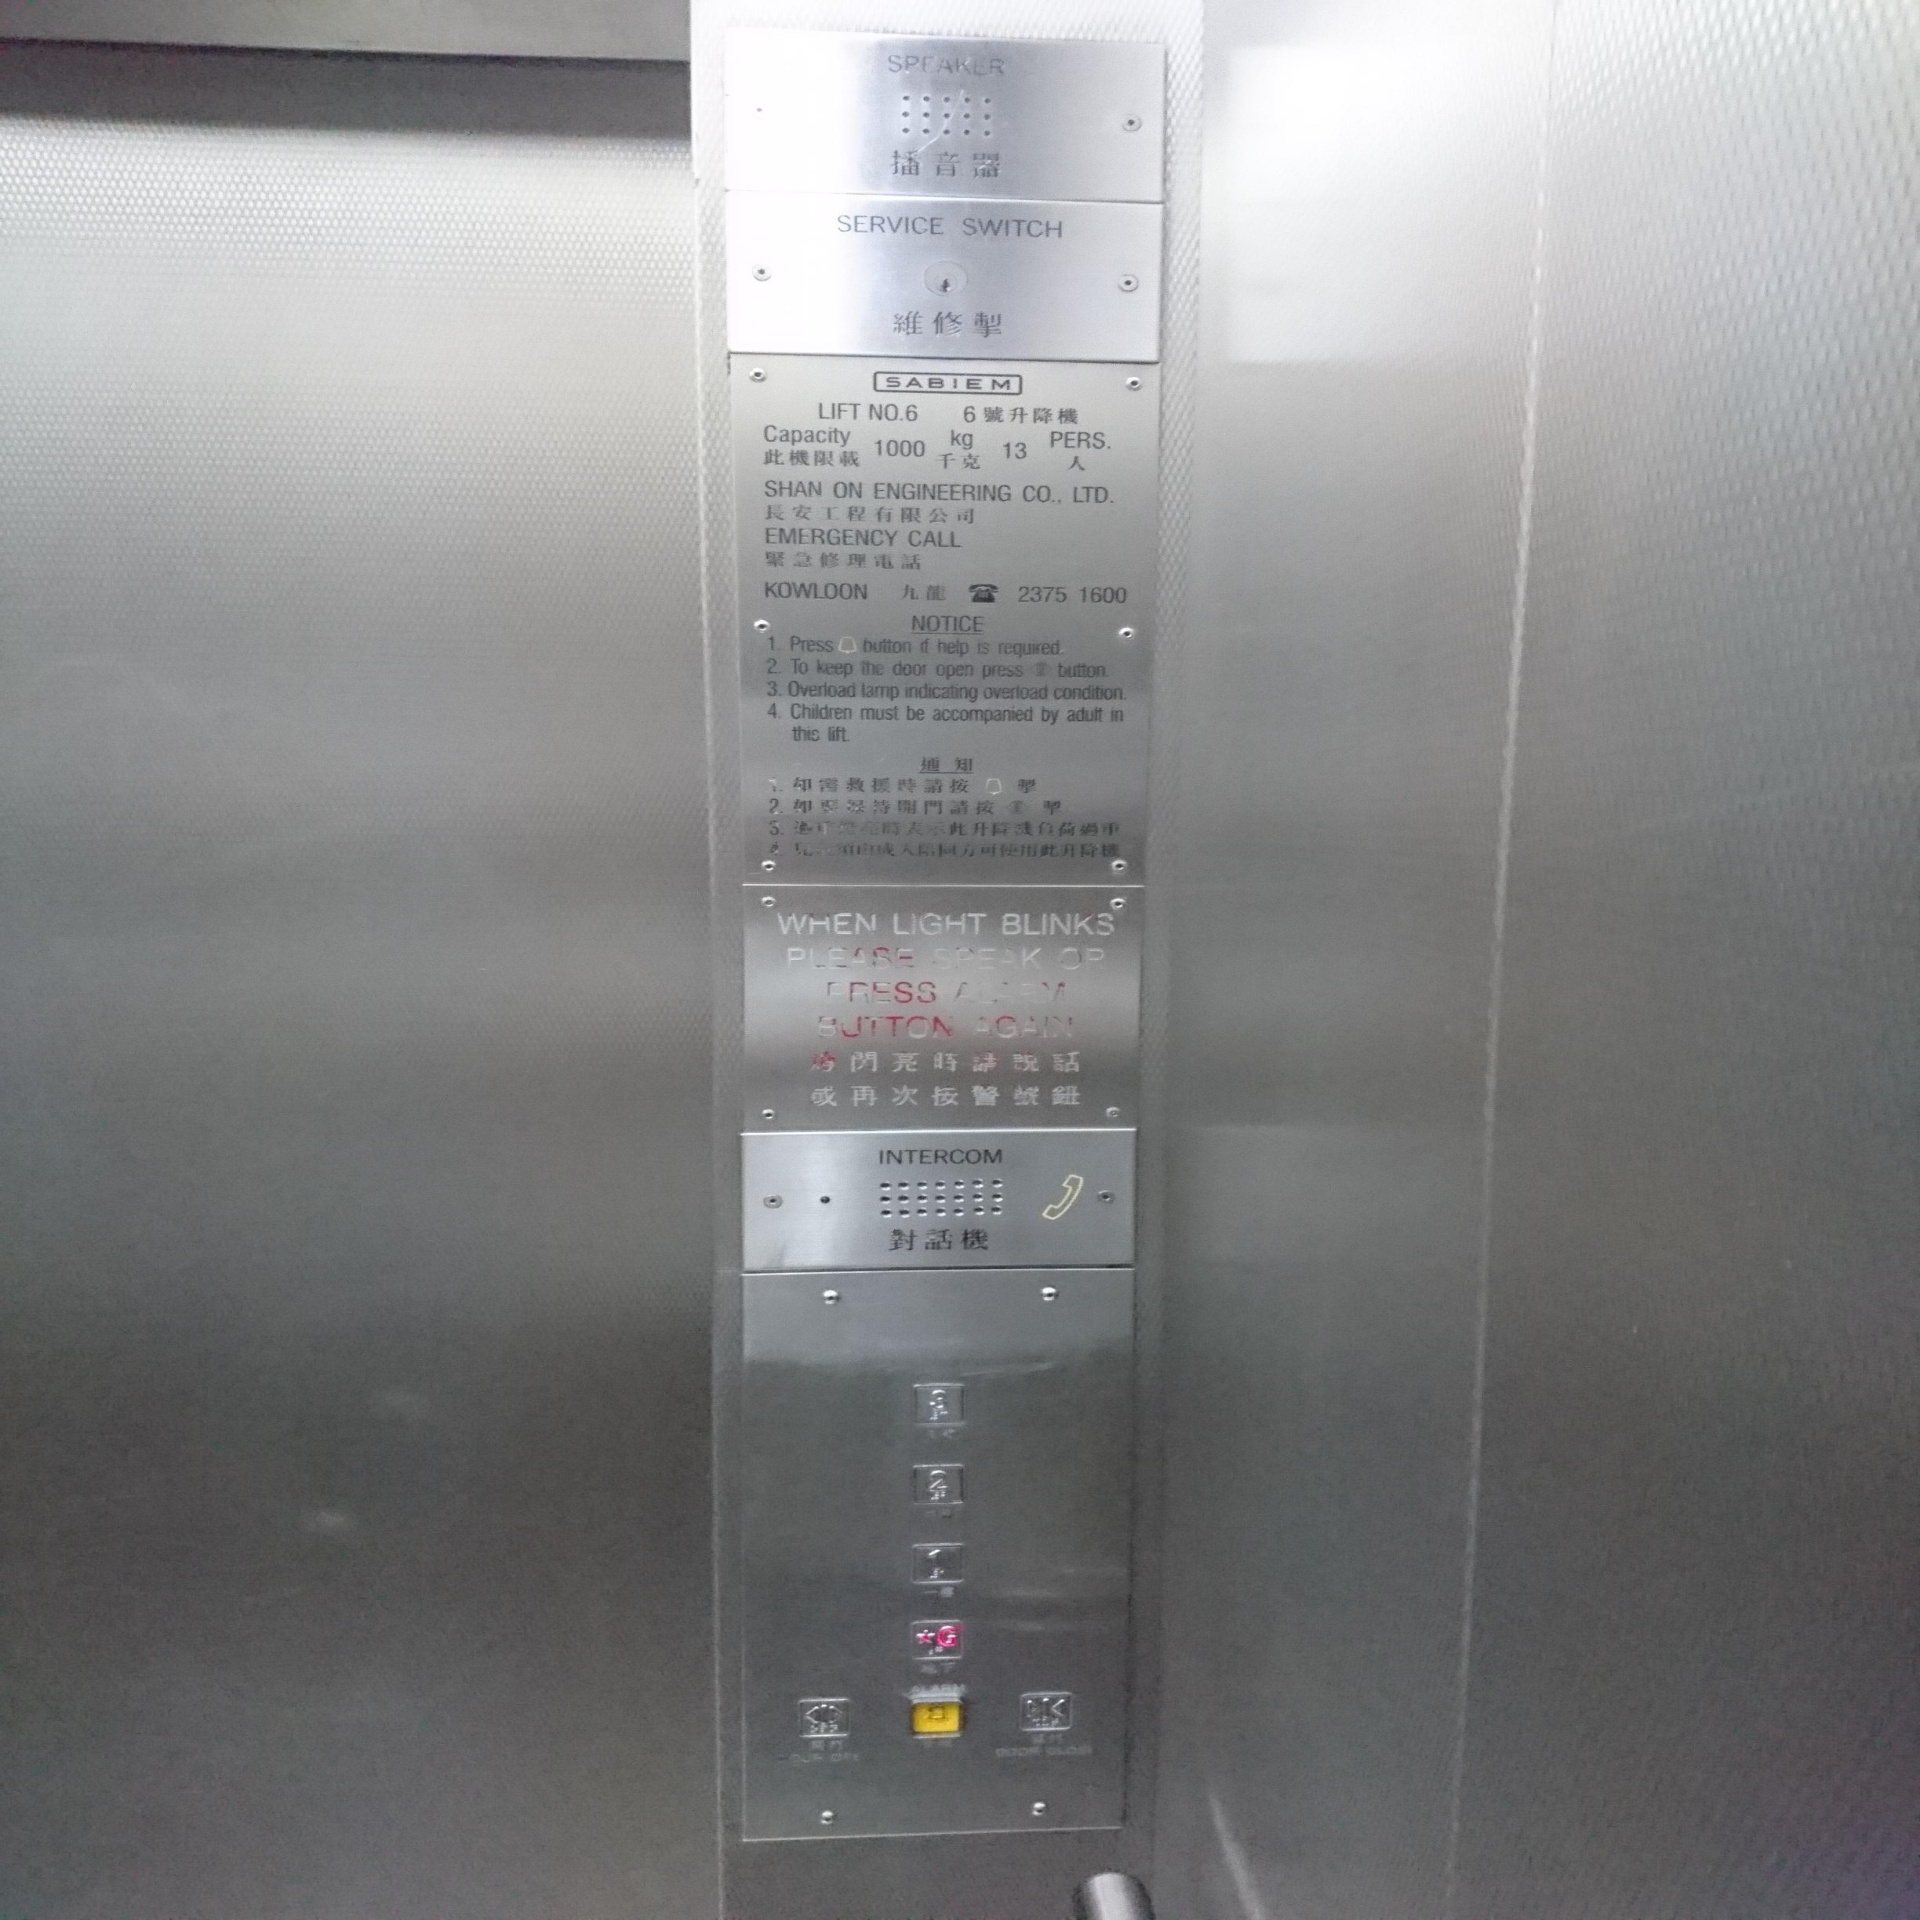1: (913, 1544, 965, 1588)
2: (911, 1463, 964, 1507)
3: (913, 1382, 965, 1428)
alarm: (907, 1691, 965, 1739)
close: (1018, 1691, 1073, 1734)
open: (796, 1697, 853, 1741)
sG: (909, 1618, 964, 1663)
